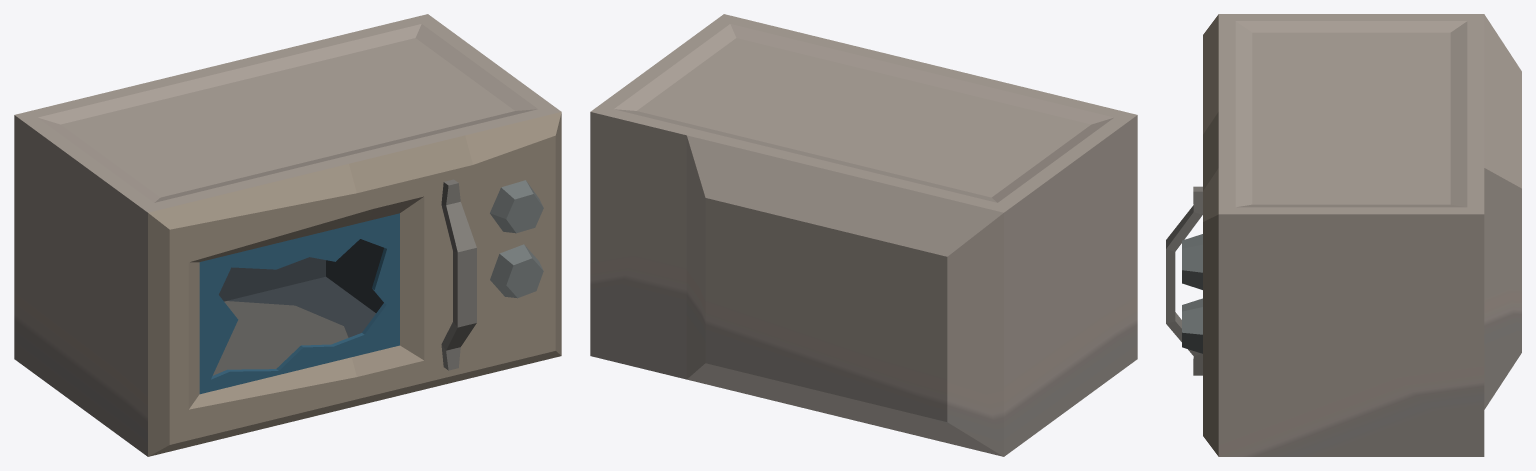
Rendered from SM_Microwave.fbx.
The picture shows the model from 3 angles, left to right: view 1: azimuth 30°, elevation 25°; view 2: azimuth 150°, elevation 25°; view 3: azimuth 270°, elevation 25°; orthographic projection.
Visible parts, largest first — view 1: SM_Microwave, SM_Microwave_Door; view 2: SM_Microwave; view 3: SM_Microwave, SM_Microwave_Door.
Part boxes in pixels (box(x1,y1,x2,y2)): SM_Microwave: box(14, 14, 561, 456); SM_Microwave_Door: box(148, 135, 476, 456); SM_Microwave: box(590, 14, 1137, 456); SM_Microwave: box(1182, 14, 1521, 456); SM_Microwave_Door: box(1166, 14, 1218, 375).
Bounding box in the file's own units: 69.56 × 39.24 × 52.18.
